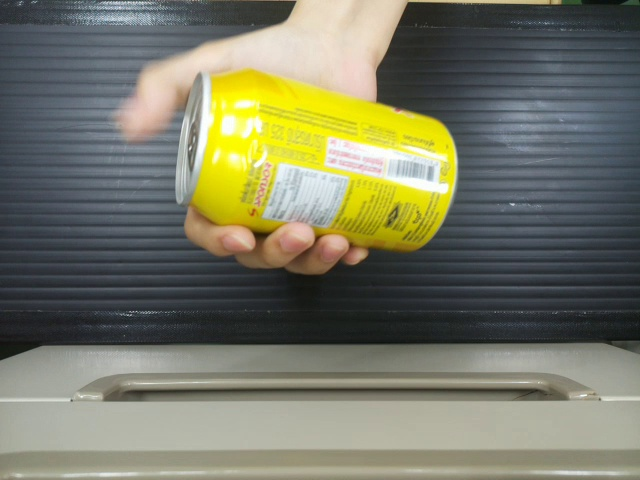can: (179, 69, 457, 227)
